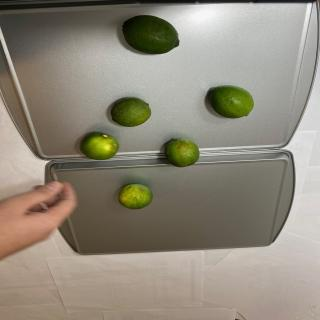Apple: (164, 138, 200, 167)
Lemon: (122, 15, 180, 54), (210, 85, 254, 118), (110, 97, 152, 127), (80, 132, 119, 160), (118, 183, 153, 210)
